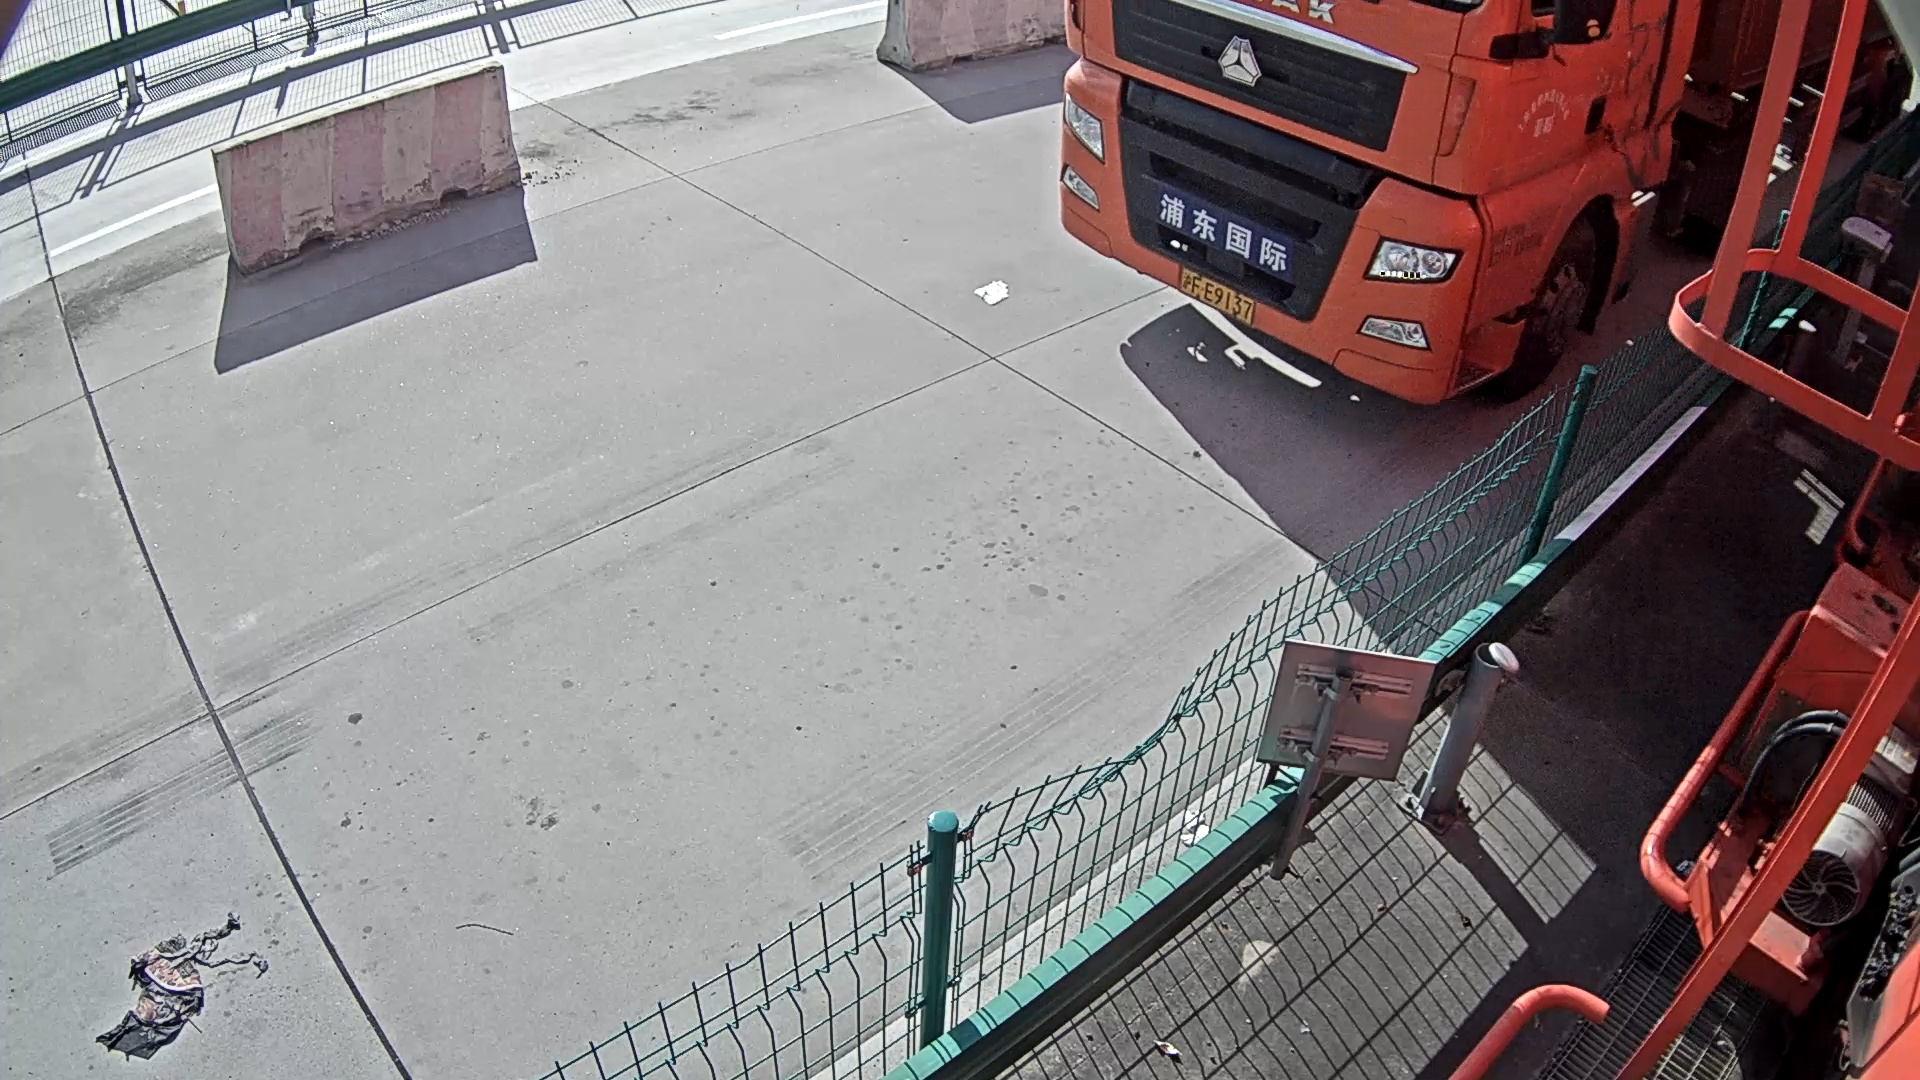head: (1059, 1, 1681, 405)
plate: (1172, 260, 1258, 323)
